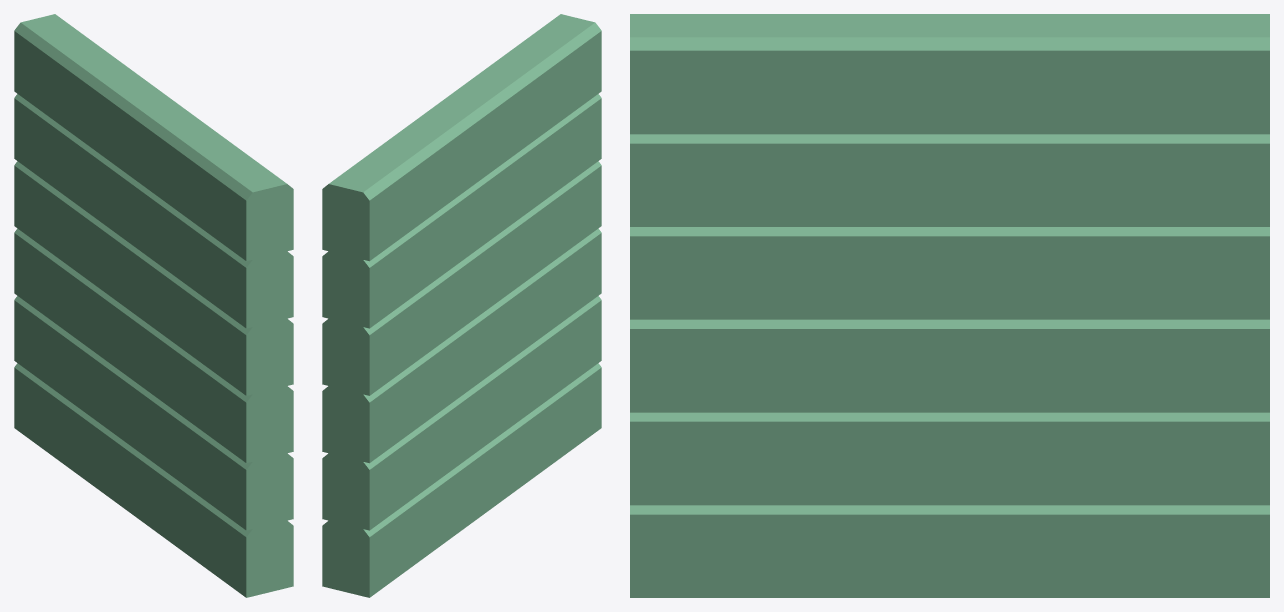
The model's file is Wall01_house3.obj.
3 views of the same model, side by side, from view 1: azimuth 30°, elevation 25°; view 2: azimuth 150°, elevation 25°; view 3: azimuth 270°, elevation 25° (orthographic). The views are drawn at different scales.
Parts seen in each view (by area): view 1: Wall01_house03_Cube.004; view 2: Wall01_house03_Cube.004; view 3: Wall01_house03_Cube.004.
Boxes of the visible parts, bbox=[...] form: Wall01_house03_Cube.004: bbox=[14, 14, 293, 597]; Wall01_house03_Cube.004: bbox=[322, 14, 601, 597]; Wall01_house03_Cube.004: bbox=[630, 14, 1269, 597].
Size of the model in its own units: 0.406 by 3.3 by 3.44.
